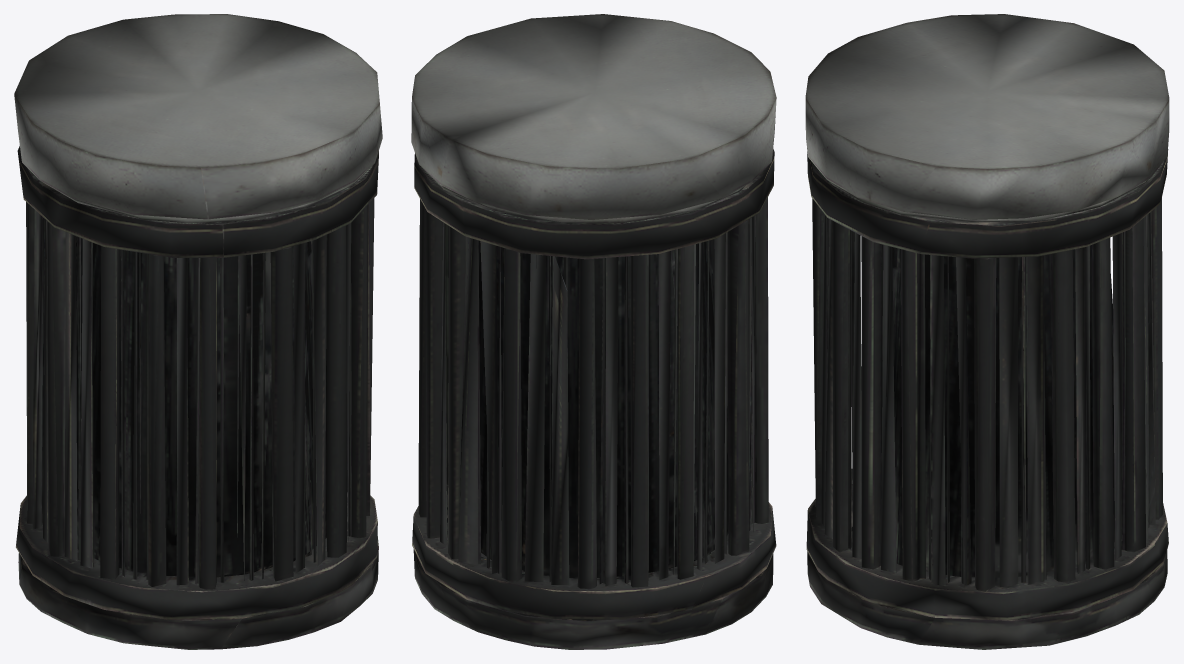
The model's file is dustbin_upright.fbx.
3 views of the same model, side by side, from view 1: azimuth 30°, elevation 25°; view 2: azimuth 150°, elevation 25°; view 3: azimuth 270°, elevation 25° (orthographic).
Parts seen in each view (by area): view 1: mesh_node; view 2: mesh_node; view 3: mesh_node.
Part boxes in pixels (bbox=[...]): mesh_node: bbox=[14, 14, 382, 649]; mesh_node: bbox=[411, 14, 776, 649]; mesh_node: bbox=[805, 14, 1169, 649].
Size of the model in its own units: 0.7507 by 1.1 by 0.7489.
